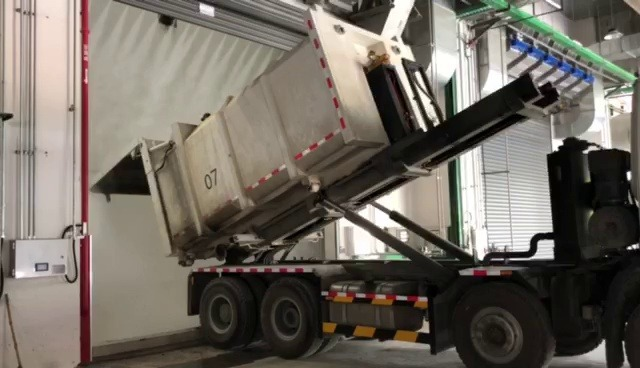truck: (148, 16, 639, 368), (97, 220, 166, 329)
